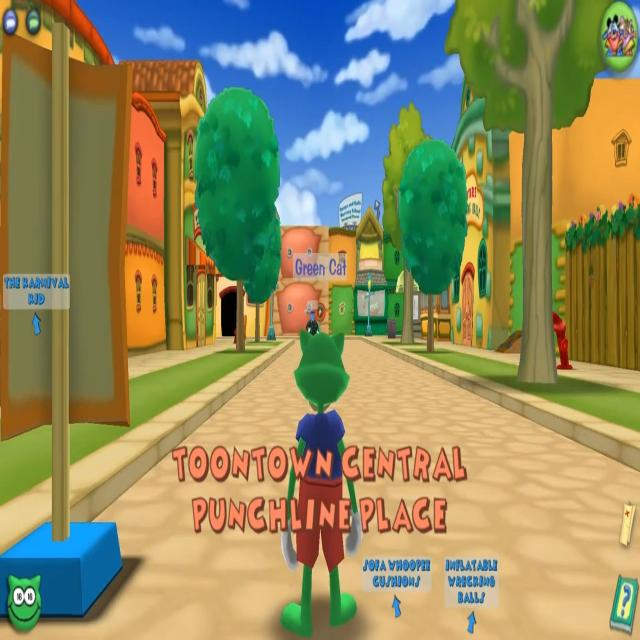shortchange: (305, 300, 321, 342)
